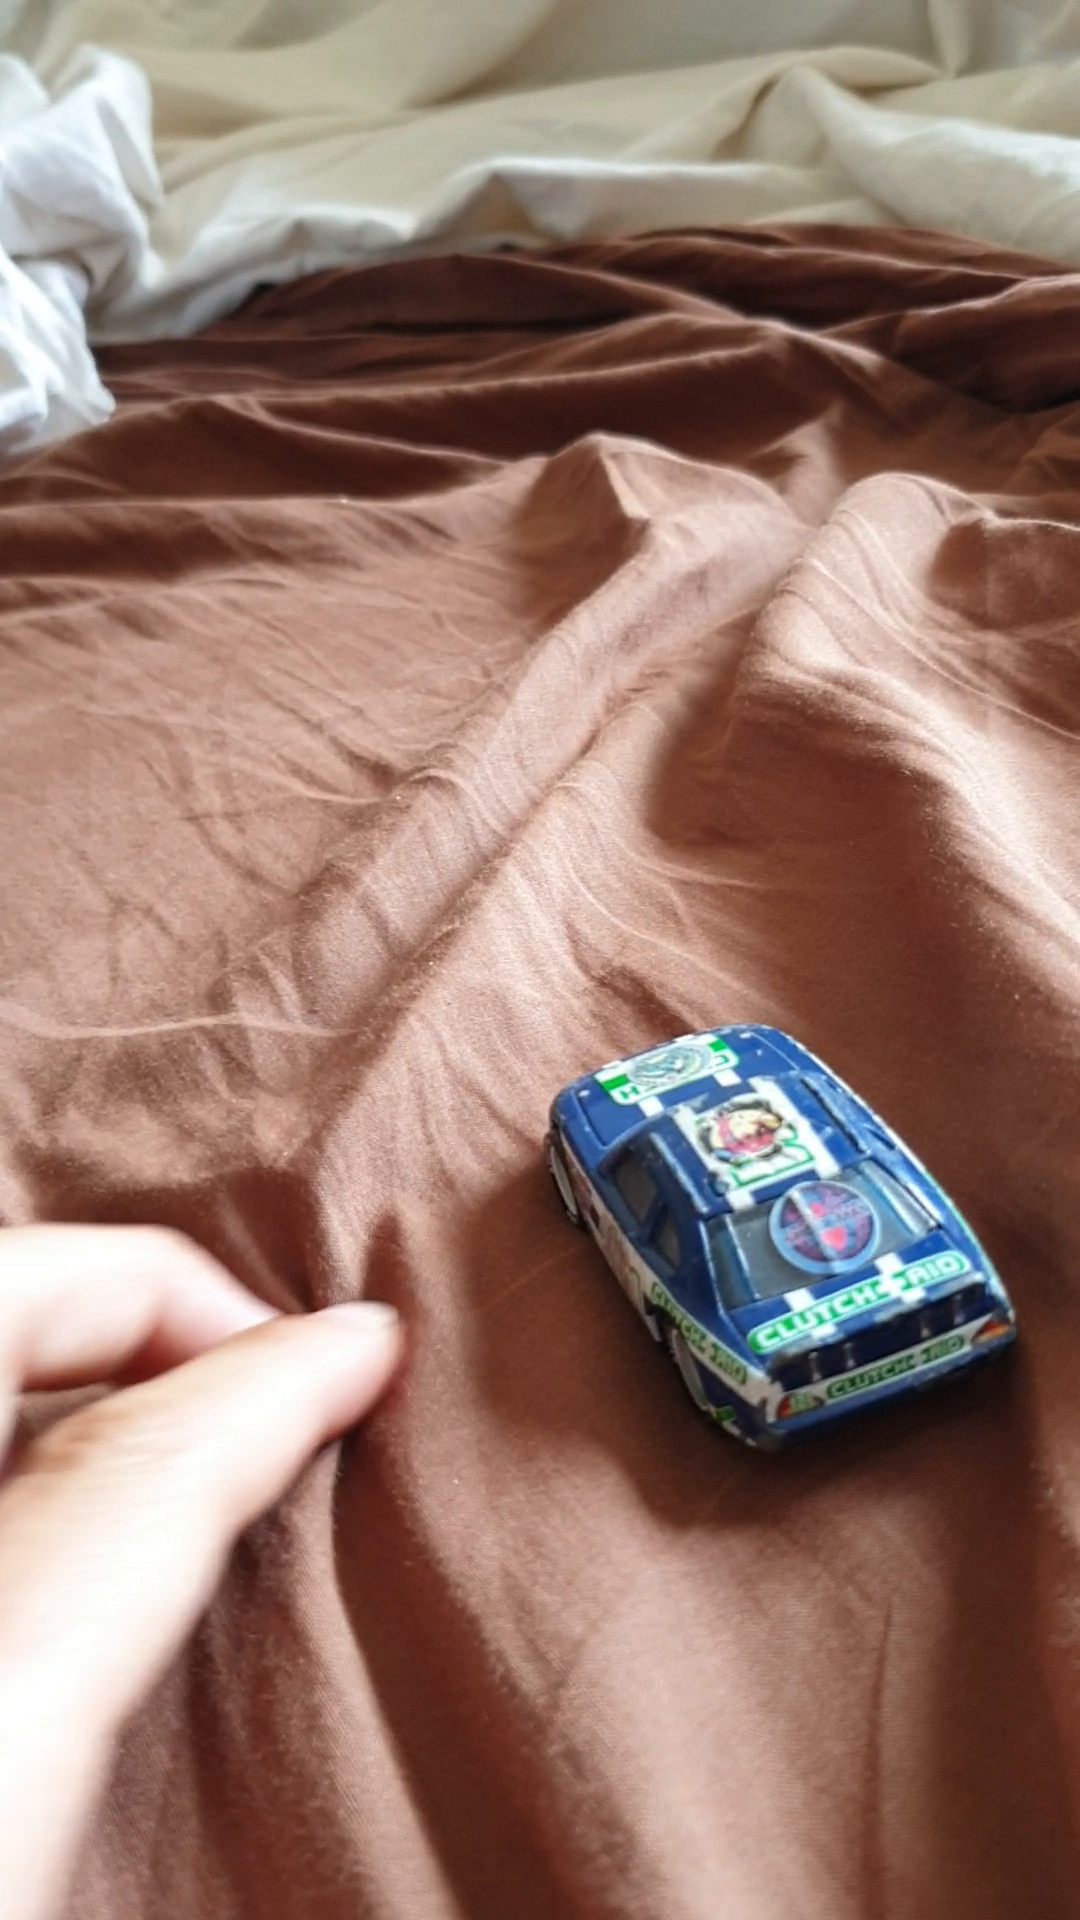cars: (534, 1022, 1025, 1445)
